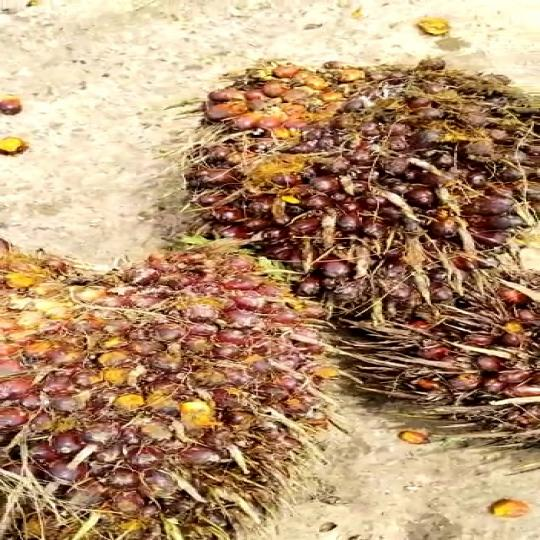masak: (0, 228, 322, 539), (188, 38, 540, 305)
